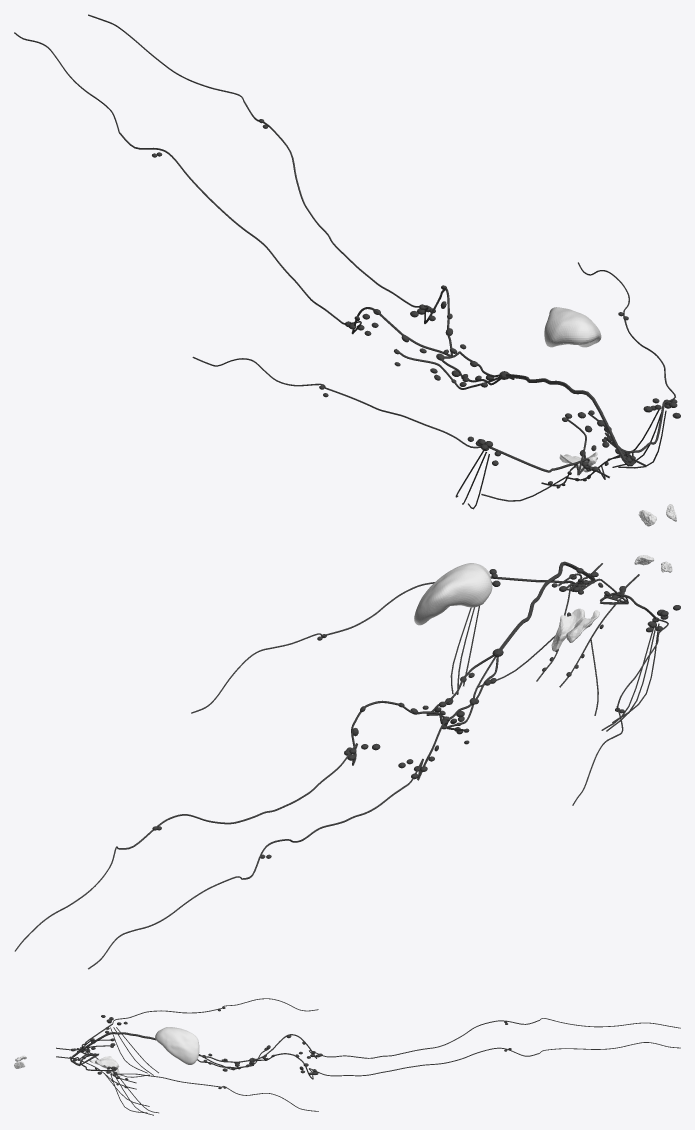
Rendered from immune.glb.
3 renders of one model, top to bottom at view 1: azimuth 30°, elevation 25°; view 2: azimuth 150°, elevation 25°; view 3: azimuth 270°, elevation 25°, orthographic. The views are drawn at different scales.
Visible parts, largest first — view 1: lymph_vessels, spleen, nodes_groin; view 2: lymph_vessels, spleen, thymus, nodes_groin; view 3: lymph_vessels, spleen, nodes_groin, thoracic_duct, thymus, nodes_axilla.
Boxes of the visible parts, box(x1,y1,x2,y2) form: lymph_vessels: box(14, 14, 675, 509); spleen: box(544, 307, 601, 347); nodes_groin: box(152, 119, 457, 354); lymph_vessels: box(14, 563, 668, 969); spleen: box(414, 563, 492, 625); thymus: box(551, 608, 599, 651); nodes_groin: box(152, 702, 456, 858); lymph_vessels: box(56, 998, 680, 1115); spleen: box(155, 1027, 199, 1064); nodes_groin: box(249, 1021, 511, 1074); thoracic_duct: box(70, 1032, 155, 1065); thymus: box(89, 1056, 120, 1077); nodes_axilla: box(97, 1007, 225, 1088).
Size of the model in its own units: 556 by 203 by 1532.
Materials: 1 (1 with a texture image).
